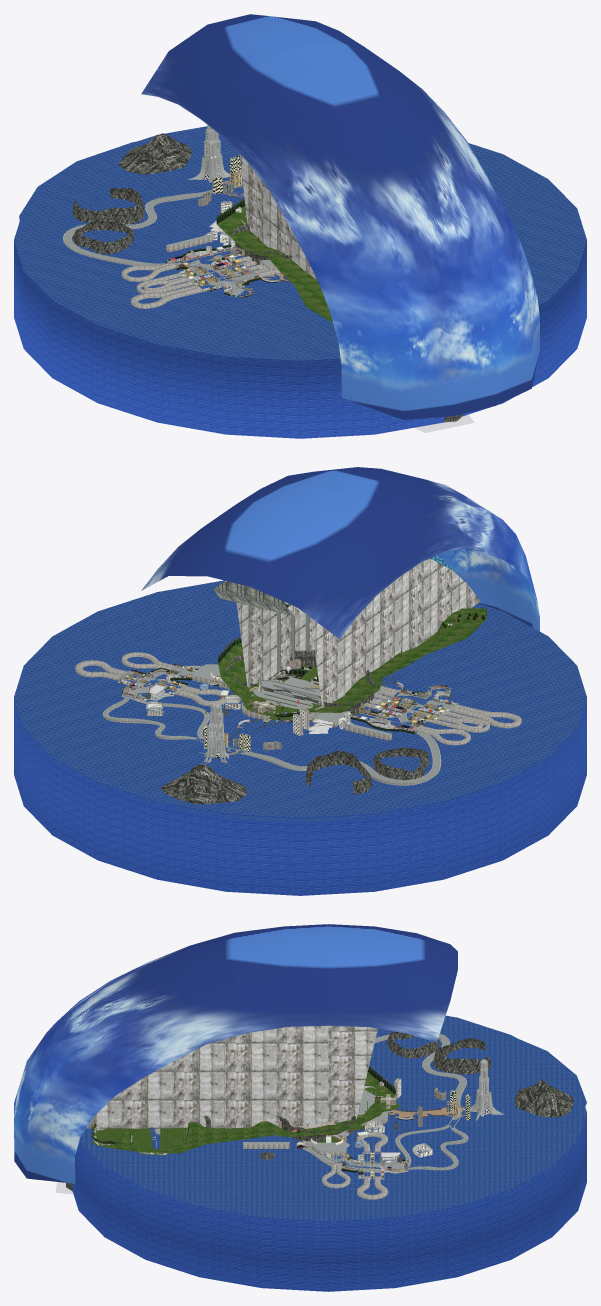
The model's file is crazy-box.glb.
The picture shows the model from 3 angles, top to bottom: view 1: azimuth 30°, elevation 25°; view 2: azimuth 150°, elevation 25°; view 3: azimuth 270°, elevation 25°; orthographic projection. The views are drawn at different scales.
Parts seen in each view (by area): view 1: crazy-box; view 2: crazy-box; view 3: crazy-box.
Boxes of the visible parts, bbox=[...] form: crazy-box: bbox=[14, 14, 586, 438]; crazy-box: bbox=[14, 467, 586, 895]; crazy-box: bbox=[14, 924, 586, 1291].
Size of the model in its own units: 20000 by 10388 by 22161.
225 materials, 223 textured.
